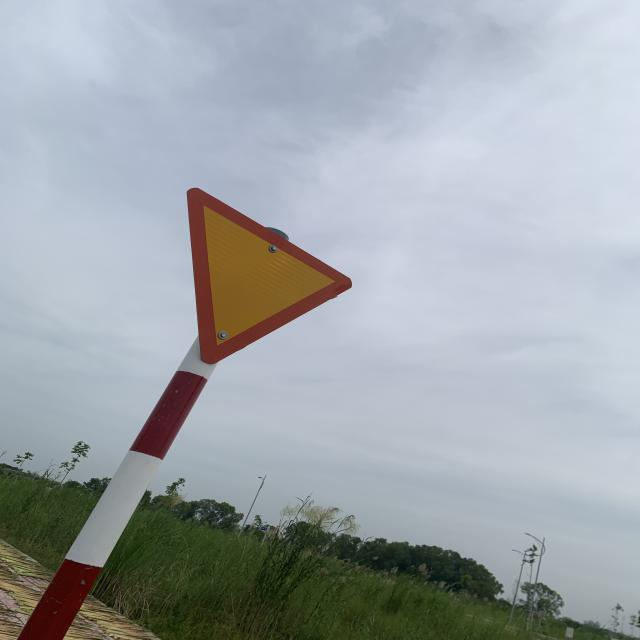Gioi_Han_Toc_Do_25: (185, 187, 353, 362)
